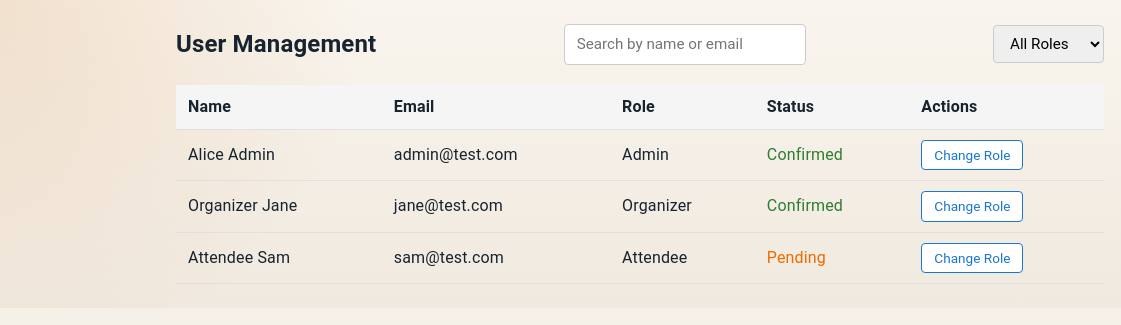
Test: AdminUserManagement › filters users by role dropdown
The width and height of the screenshot is (1121, 325).
Expected: the text "Alice Admin" is shown, [176,129,382,181]
Select "Organizer" in the dropdown named "filter users by role": [1048, 44] box [993,25,1104,63]
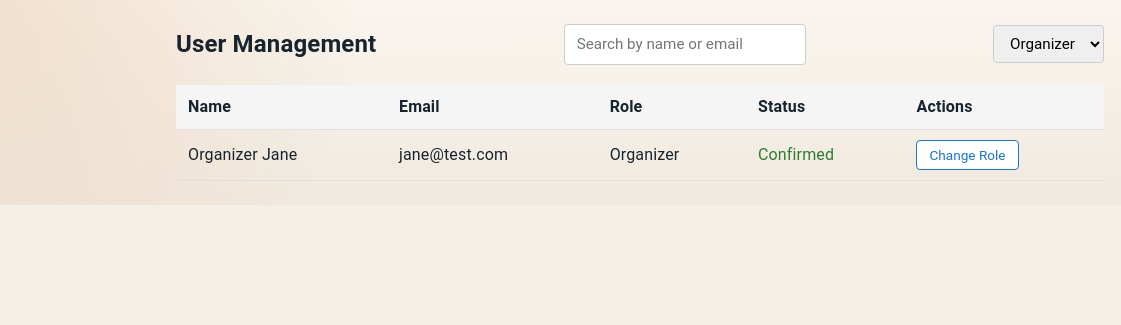
Expected: the text "Organizer Jane" is shown, [176,129,387,181]
Result: the text "Alice Admin" is gone
Result: the text "Attendee Sam" is gone
